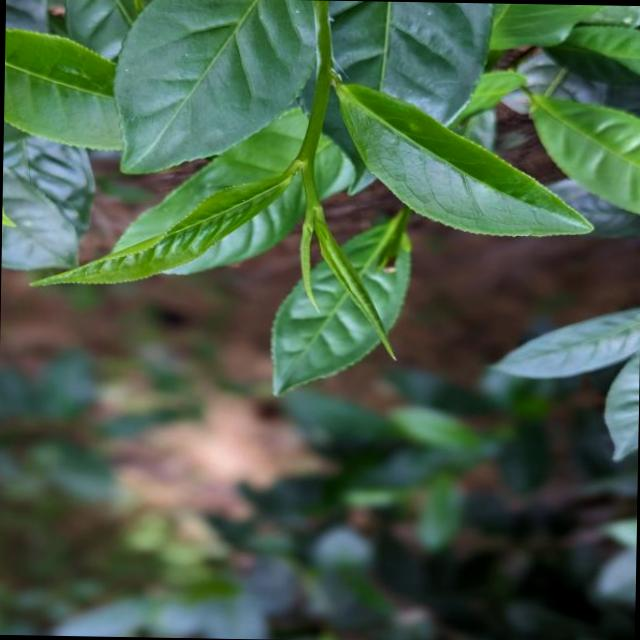Stem: (296, 119, 323, 164)
